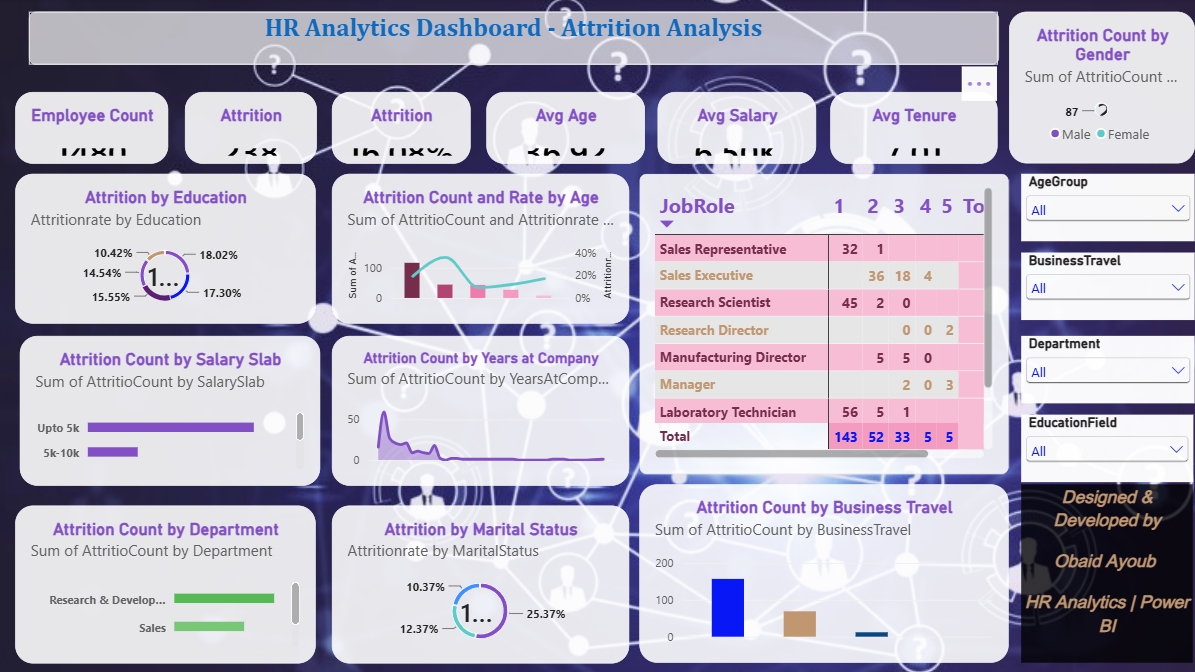

Layout of this report page (visuals, bound fields, positions):
{"tool":"powerbi","page":{"name":"Page 1","canvas":[1280,720],"ordinal":0},"visuals":[{"type":"textbox","box":[36.7,15,1033.3,56.7],"z":0},{"type":"card","title":"Employee Count","fields":{"Values":["CountNonNull(HR_Analytics (1).EmpID)"]},"box":[23.1,99.9,163.4,76.9],"z":1000},{"type":"card","title":"Attrition","fields":{"Values":["Sum(HR_Analytics (1).AttritioCount)"]},"box":[203.7,99.9,140.3,76.9],"z":2000},{"type":"card","title":"Attrition","fields":{"Values":["HR_Analytics (1).Attritionrate"]},"box":[359.4,99.9,148,76.9],"z":3000},{"type":"card","title":"Avg Age","fields":{"Values":["Avg(HR_Analytics (1).Age)"]},"box":[524.7,99.9,169.1,76.9],"z":4000},{"type":"card","title":"Avg Salary","fields":{"Values":["Avg(HR_Analytics (1).MonthlyIncome)"]},"box":[707.3,99.9,169.1,76.9],"z":5000},{"type":"card","title":"Avg Tenure","fields":{"Values":["Avg(HR_Analytics (1).YearsAtCompany)"]},"box":[891.7,100,178.3,76.7],"z":6000},{"type":"donutChart","title":"Attrition Count by Gender","fields":{"Category":["HR_Analytics (1).Gender"],"Y":["Sum(HR_Analytics (1).AttritioCount)"]},"box":[1081.7,15,198.3,161.7],"z":7000},{"type":"donutChart","title":"Attrition by Education ","fields":{"Category":["HR_Analytics (1).Education","HR_Analytics (1).YearsAtCompany"],"Y":["HR_Analytics (1).Attritionrate"]},"box":[23.3,186.7,320,160],"z":8000},{"type":"lineStackedColumnComboChart","title":"Attrition Count and Rate by Age","fields":{"Category":["HR_Analytics (1).AgeGroup"],"Y":["Sum(HR_Analytics (1).AttritioCount)"],"Y2":["HR_Analytics (1).Attritionrate"]},"box":[360,186.7,316.7,160],"z":9000},{"type":"pivotTable","fields":{"Rows":["HR_Analytics (1).JobRole"],"Columns":["HR_Analytics (1).JobLevel"],"Values":["Sum(HR_Analytics (1).AttritioCount)"]},"box":[688.3,186.7,393.3,320],"z":10000},{"type":"barChart","title":"Attrition Count by Salary Slab","fields":{"Y":["Sum(HR_Analytics (1).AttritioCount)"],"Category":["HR_Analytics (1).SalarySlab"]},"box":[26.7,360,320,160],"z":11000},{"type":"stackedAreaChart","title":"Attrition Count by Years at Company","fields":{"Category":["HR_Analytics (1).YearsAtCompany"],"Y":["Sum(HR_Analytics (1).AttritioCount)"]},"box":[360,360,316.7,160],"z":12000},{"type":"barChart","title":"Attrition Count by Department","fields":{"Y":["Sum(HR_Analytics (1).AttritioCount)"],"Category":["HR_Analytics (1).Department"]},"box":[23.3,540,320,168.3],"z":13000},{"type":"donutChart","title":"Attrition by Marital Status","fields":{"Category":["HR_Analytics (1).MaritalStatus"],"Y":["HR_Analytics (1).Attritionrate"]},"box":[360,540,316.7,168],"z":14000},{"type":"columnChart","title":"Attrition Count by Business Travel","fields":{"Category":["HR_Analytics (1).BusinessTravel"],"Y":["Sum(HR_Analytics (1).AttritioCount)"]},"box":[688.3,518.3,393.3,190],"z":15000},{"type":"slicer","fields":{"Values":["HR_Analytics (1).AgeGroup"]},"box":[1095,186.7,185,72],"z":16000},{"type":"slicer","fields":{"Values":["HR_Analytics (1).BusinessTravel"]},"box":[1095,271.7,185,72],"z":17000},{"type":"slicer","fields":{"Values":["HR_Analytics (1).Department"]},"box":[1095,360,185,72],"z":18000},{"type":"slicer","fields":{"Values":["HR_Analytics (1).EducationField"]},"box":[1095,443.3,183.3,72],"z":19000},{"type":"textbox","box":[1095,518,183,190],"z":19001}]}

Visuals, with their boxes in screenshot pixels (x1, y1, x2, y2), scaled from the page's 1280x720 canvas onto the 1195x672 screenshot:
textbox: detection(34, 14, 999, 67)
"Employee Count" card: detection(22, 93, 174, 165)
"Attrition" card: detection(190, 93, 321, 165)
"Attrition" card: detection(336, 93, 474, 165)
"Avg Age" card: detection(490, 93, 648, 165)
"Avg Salary" card: detection(660, 93, 818, 165)
"Avg Tenure" card: detection(832, 93, 999, 165)
"Attrition Count by Gender" donutChart: detection(1010, 14, 1194, 165)
"Attrition by Education " donutChart: detection(22, 174, 321, 324)
"Attrition Count and Rate by Age" lineStackedColumnComboChart: detection(336, 174, 632, 324)
pivotTable - HR_Analytics (1).JobRole x HR_Analytics (1).JobLevel: detection(643, 174, 1010, 473)
"Attrition Count by Salary Slab" barChart: detection(25, 336, 324, 485)
"Attrition Count by Years at Company" stackedAreaChart: detection(336, 336, 632, 485)
"Attrition Count by Department" barChart: detection(22, 504, 321, 661)
"Attrition by Marital Status" donutChart: detection(336, 504, 632, 661)
"Attrition Count by Business Travel" columnChart: detection(643, 484, 1010, 661)
slicer - HR_Analytics (1).AgeGroup: detection(1022, 174, 1194, 241)
slicer - HR_Analytics (1).BusinessTravel: detection(1022, 254, 1194, 321)
slicer - HR_Analytics (1).Department: detection(1022, 336, 1194, 403)
slicer - HR_Analytics (1).EducationField: detection(1022, 414, 1193, 481)
textbox: detection(1022, 483, 1193, 661)
